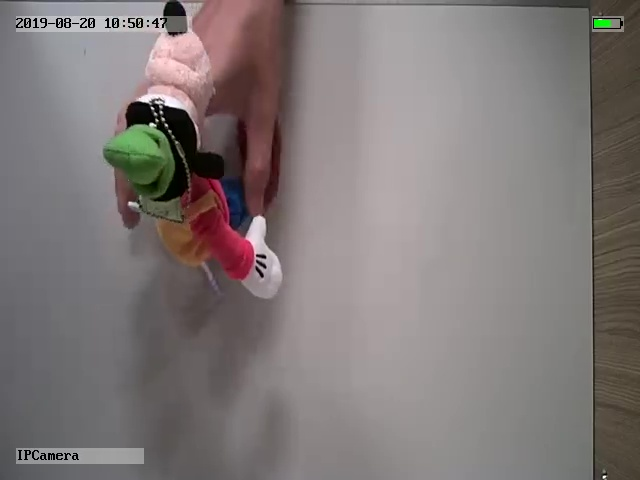goofy: (102, 2, 283, 299)
